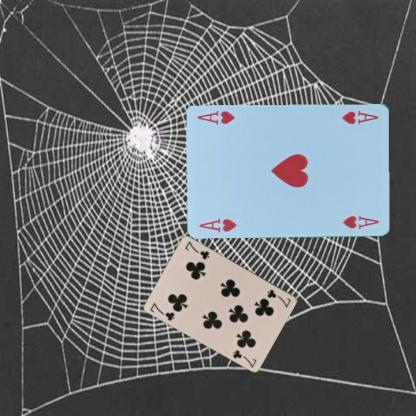7c: (148, 300, 176, 322), (265, 286, 292, 308)
Ah: (339, 108, 380, 126), (197, 215, 238, 233)
